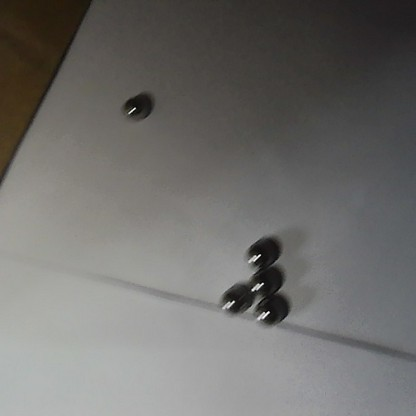ironball: (240, 237, 276, 268), (249, 269, 285, 299), (252, 297, 286, 327), (220, 283, 251, 314), (118, 95, 151, 124)
